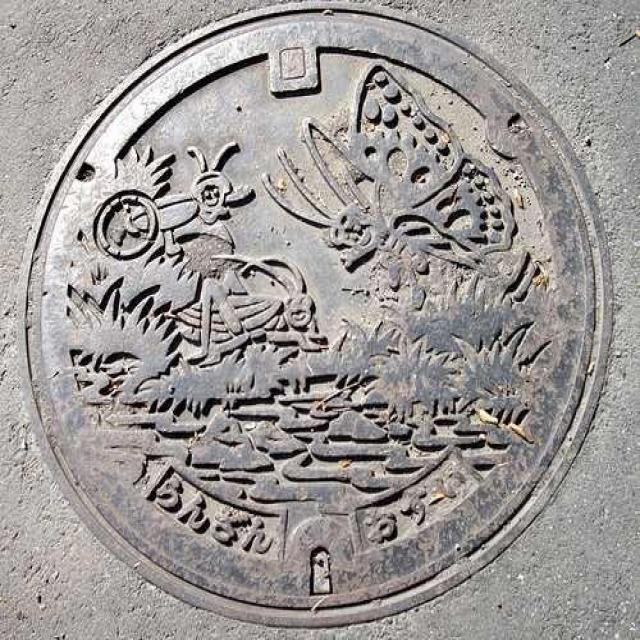manhole: (21, 3, 611, 626)
